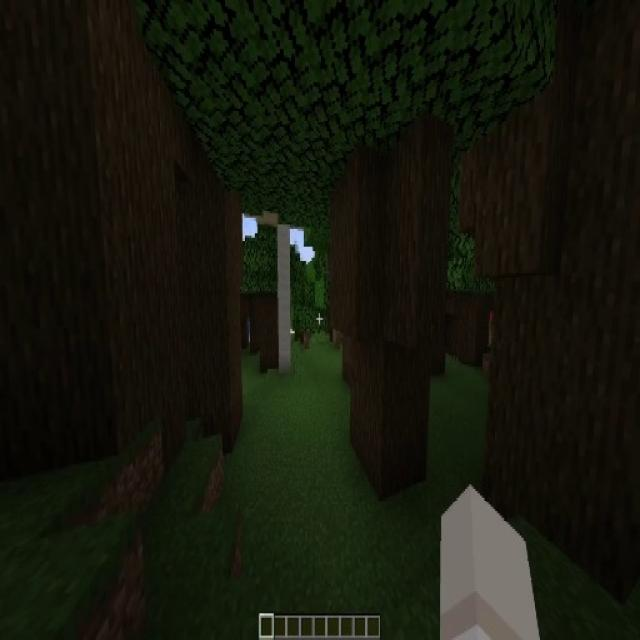dark_oak: (242, 220, 288, 372)
dark_oak_log: (2, 12, 241, 471), (482, 22, 640, 584), (332, 146, 451, 494), (454, 288, 486, 369), (257, 296, 282, 367)
